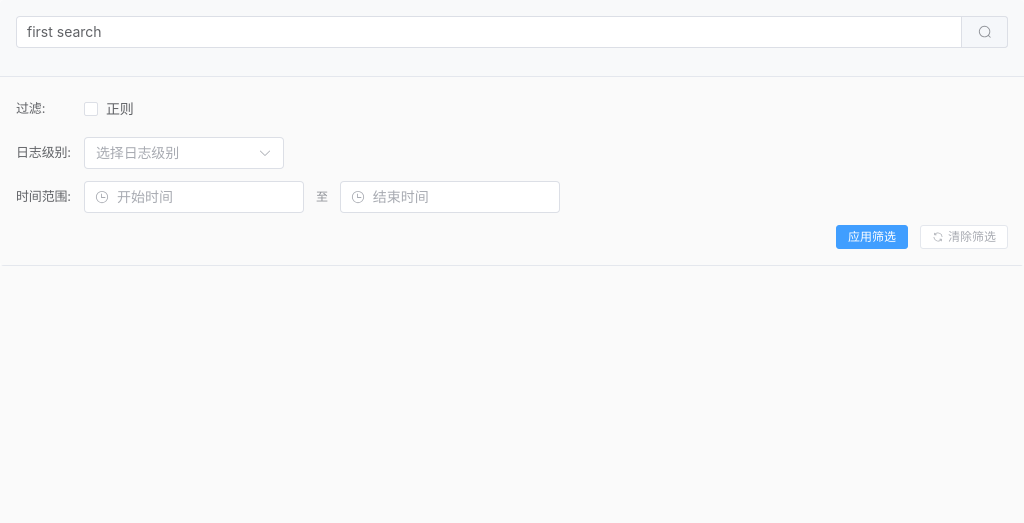
it: SearchPanel › Search History › should add successful searches to history
The width and height of the screenshot is (1024, 523).
Click the button with test id "search-button".
click(985, 32)  # box [962,16,1008,48]
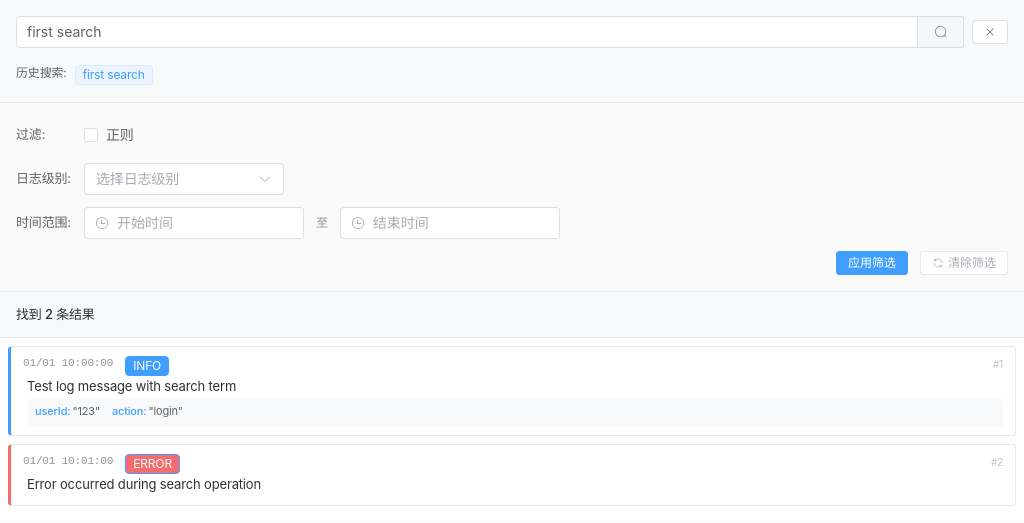
expect the element with class "search-history" is shown: met, box [16,65,153,85]
expect the element with class "history-tag" reads "first search": met, box [83,67,145,82]
